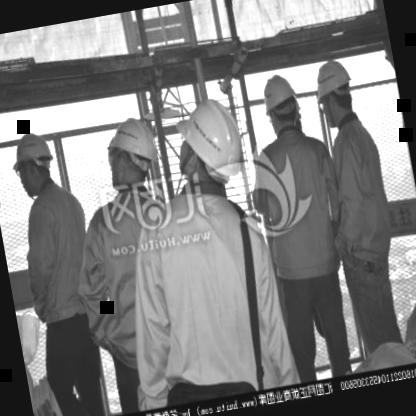helmet: (160, 88, 250, 198), (94, 108, 166, 199), (1, 129, 61, 204), (308, 53, 361, 134), (257, 70, 307, 142)
